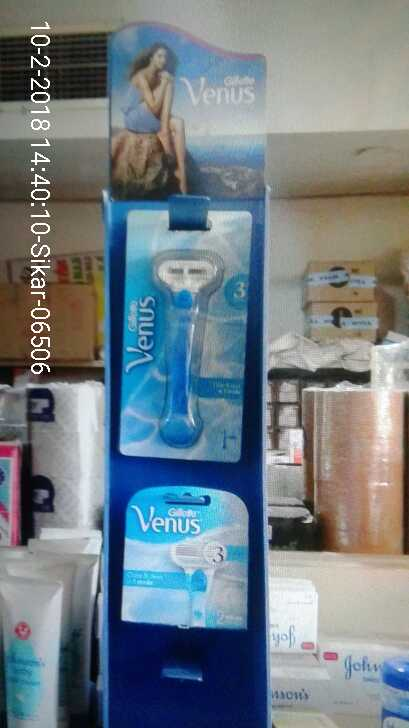venus: (121, 202, 254, 464), (108, 487, 258, 634)
